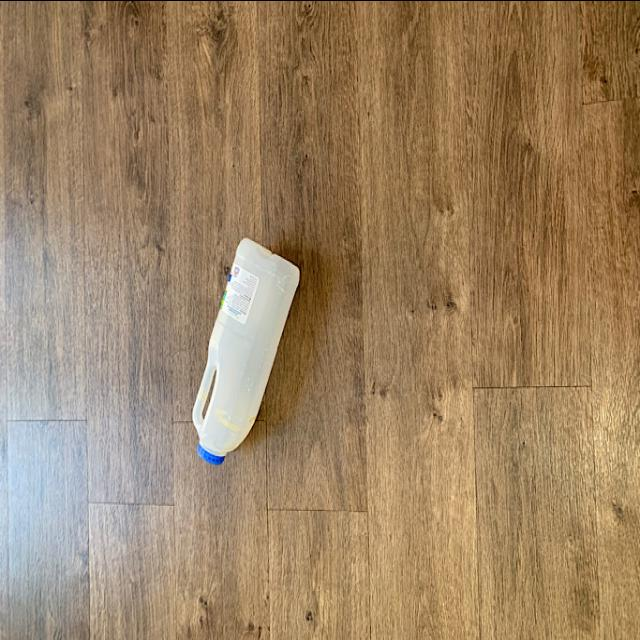HDPEM: (192, 230, 304, 470)
